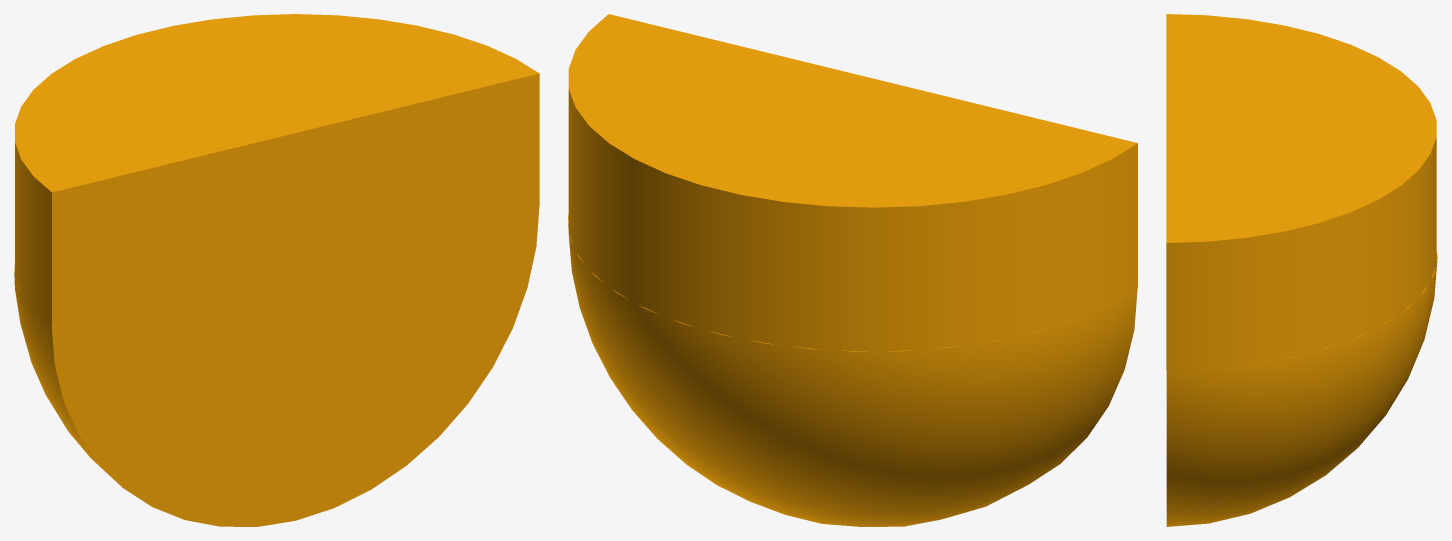
The model's file is RearBody.gltf.
3 renders of one model, left to right at view 1: azimuth 30°, elevation 25°; view 2: azimuth 150°, elevation 25°; view 3: azimuth 270°, elevation 25°, orthographic. The views are drawn at different scales.
Parts seen in each view (by area): view 1: RearBoy_Upper, RearBody_Lower; view 2: RearBoy_Upper, RearBody_Lower; view 3: RearBoy_Upper, RearBody_Lower.
Boxes of the visible parts, left/top/right/bottom form: RearBoy_Upper: left=15, top=14, right=539, bottom=324; RearBody_Lower: left=14, top=206, right=539, bottom=526; RearBoy_Upper: left=568, top=14, right=1137, bottom=351; RearBody_Lower: left=568, top=214, right=1137, bottom=526; RearBoy_Upper: left=1166, top=14, right=1436, bottom=370; RearBody_Lower: left=1166, top=252, right=1437, bottom=526.
Bounding box in the file's own units: 0.25 × 0.19 × 0.1252.
